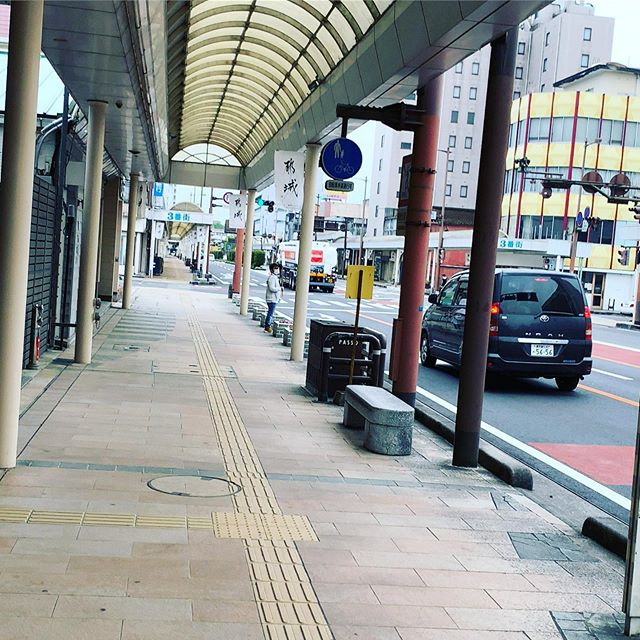building: (358, 11, 608, 244), (495, 50, 640, 275)
car: (418, 256, 601, 397)
collumn: (449, 37, 546, 462), (1, 6, 68, 486), (380, 67, 459, 415), (84, 94, 113, 367)
sidewalk: (1, 266, 558, 640)
sign: (281, 127, 336, 362), (225, 178, 269, 331), (311, 127, 371, 222), (321, 122, 369, 186), (265, 150, 315, 209), (217, 187, 263, 242)
